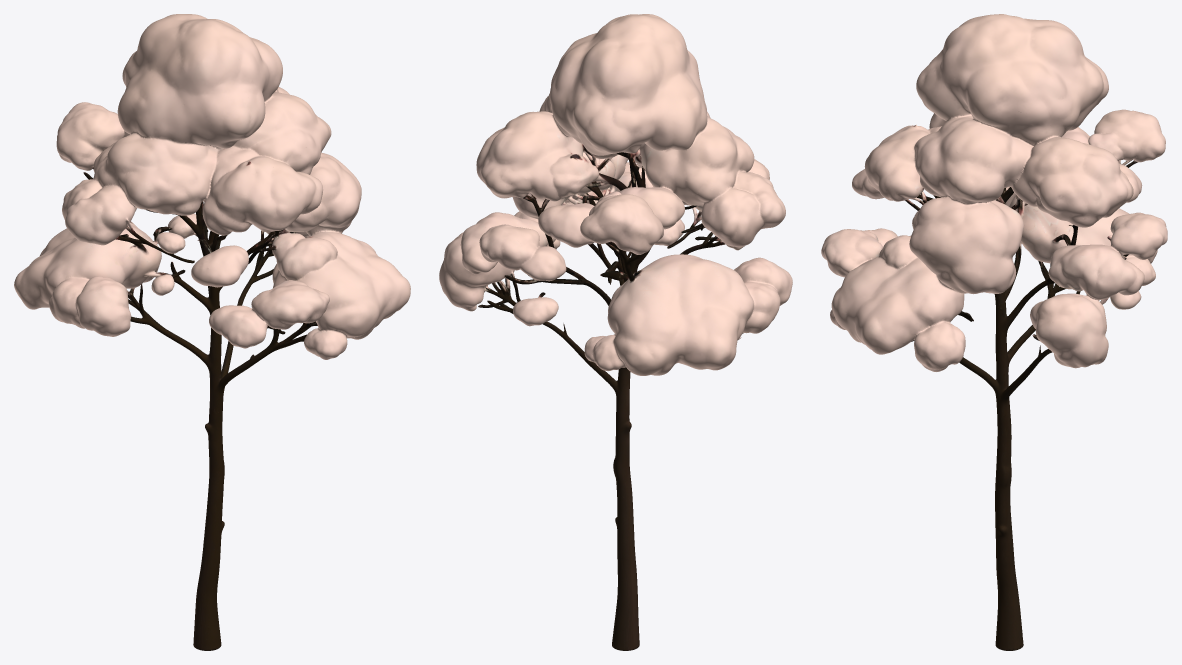
File: Style_Tree.glb
3 views of the same model, side by side, from view 1: azimuth 30°, elevation 25°; view 2: azimuth 150°, elevation 25°; view 3: azimuth 270°, elevation 25° (orthographic).
Bounding box in the file's own units: 0.956 × 1.9 × 0.9533.
Materials: 1 (1 with a texture image).
